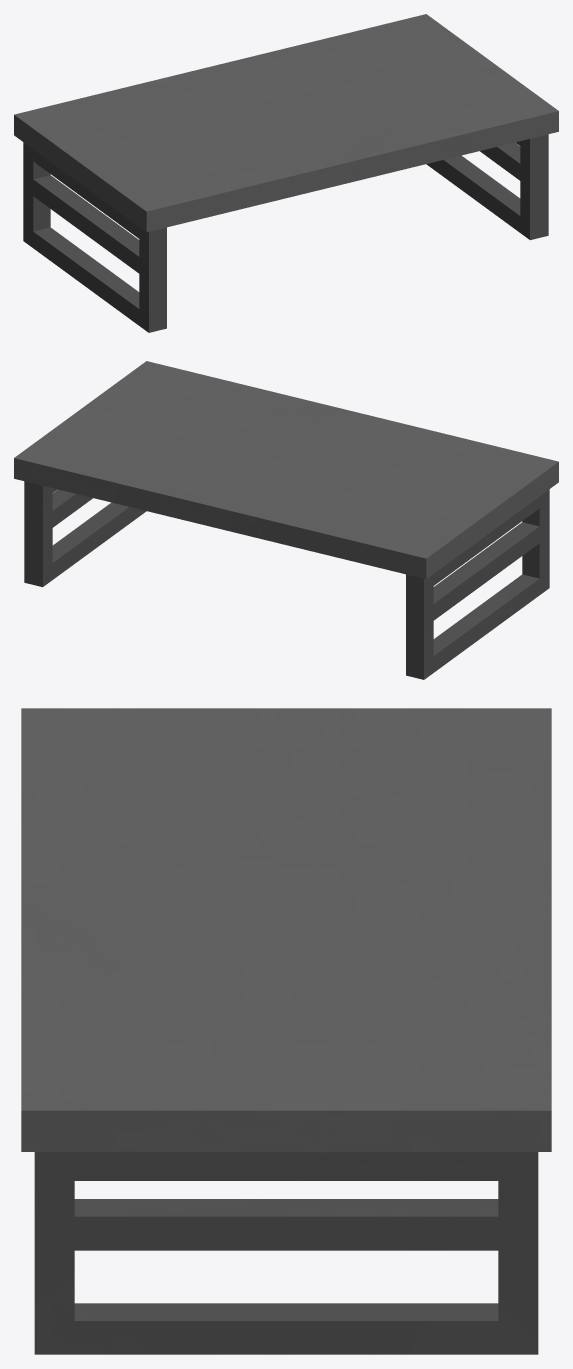
File: Pfb_Table__10.fbx
3 renders of one model, top to bottom at view 1: azimuth 30°, elevation 25°; view 2: azimuth 150°, elevation 25°; view 3: azimuth 270°, elevation 25°, orthographic. The views are drawn at different scales.
Parts seen in each view (by area): view 1: Mat_Table_02White; view 2: Mat_Table_02White; view 3: Mat_Table_02White.
Boxes of the visible parts, box(x1,y1,x2,y2) form: Mat_Table_02White: box(14, 14, 558, 332); Mat_Table_02White: box(14, 361, 558, 679); Mat_Table_02White: box(21, 708, 551, 1354).
Bounding box in the file's own units: 2.23 × 0.6468 × 1.24.
Materials: 1 (1 with a texture image).
